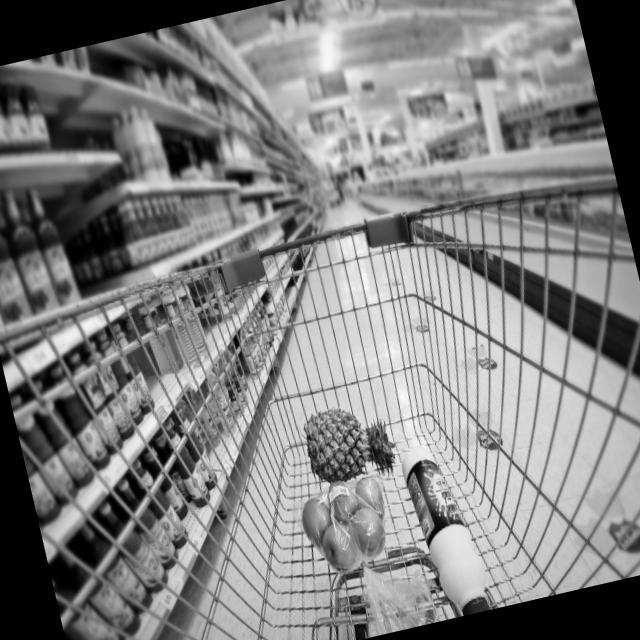apple: (292, 470, 404, 577)
milk: (399, 438, 500, 622)
pineapple: (299, 393, 401, 488)
